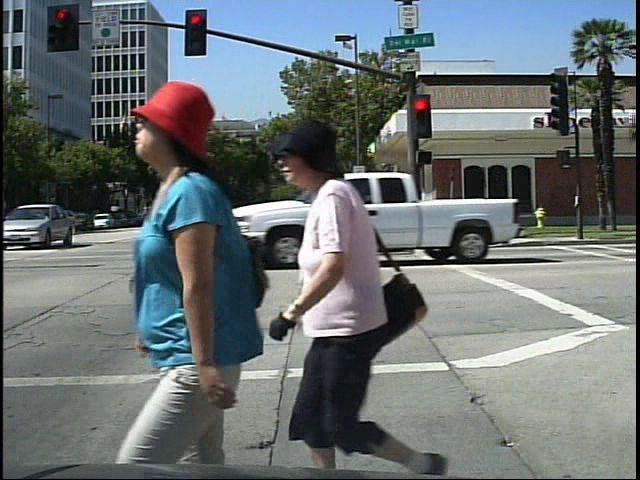person: (278, 114, 459, 478), (109, 67, 272, 469)
